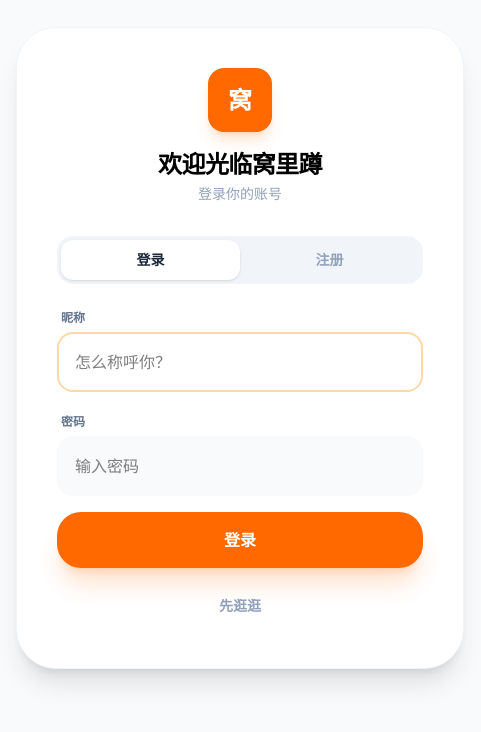
Scenario: IdentityForm › shows register fields when switching to register mode
Click the button "注册": (330, 260) [240,240,419,280]
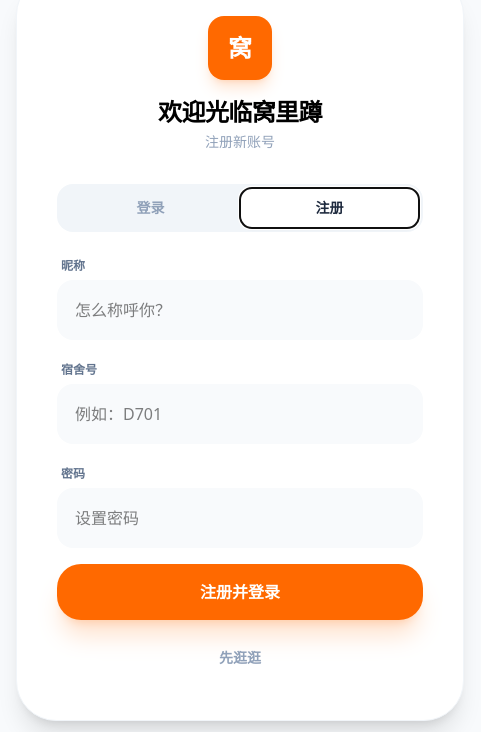
Expected: the field with placeholder "怎么称呼你？" is shown, [57,280,423,340]
Expected: the field with placeholder "例如：D701" is shown, [57,384,423,444]
Expected: the password field with placeholder "设置密码" is shown, [57,488,423,548]
